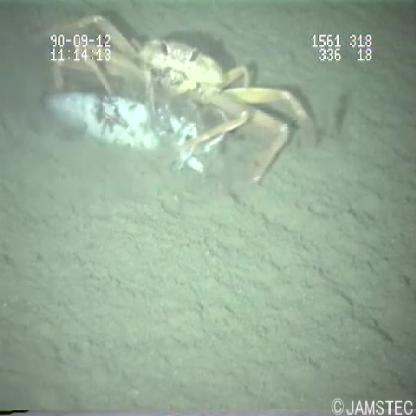Bio: (30, 14, 320, 187)
